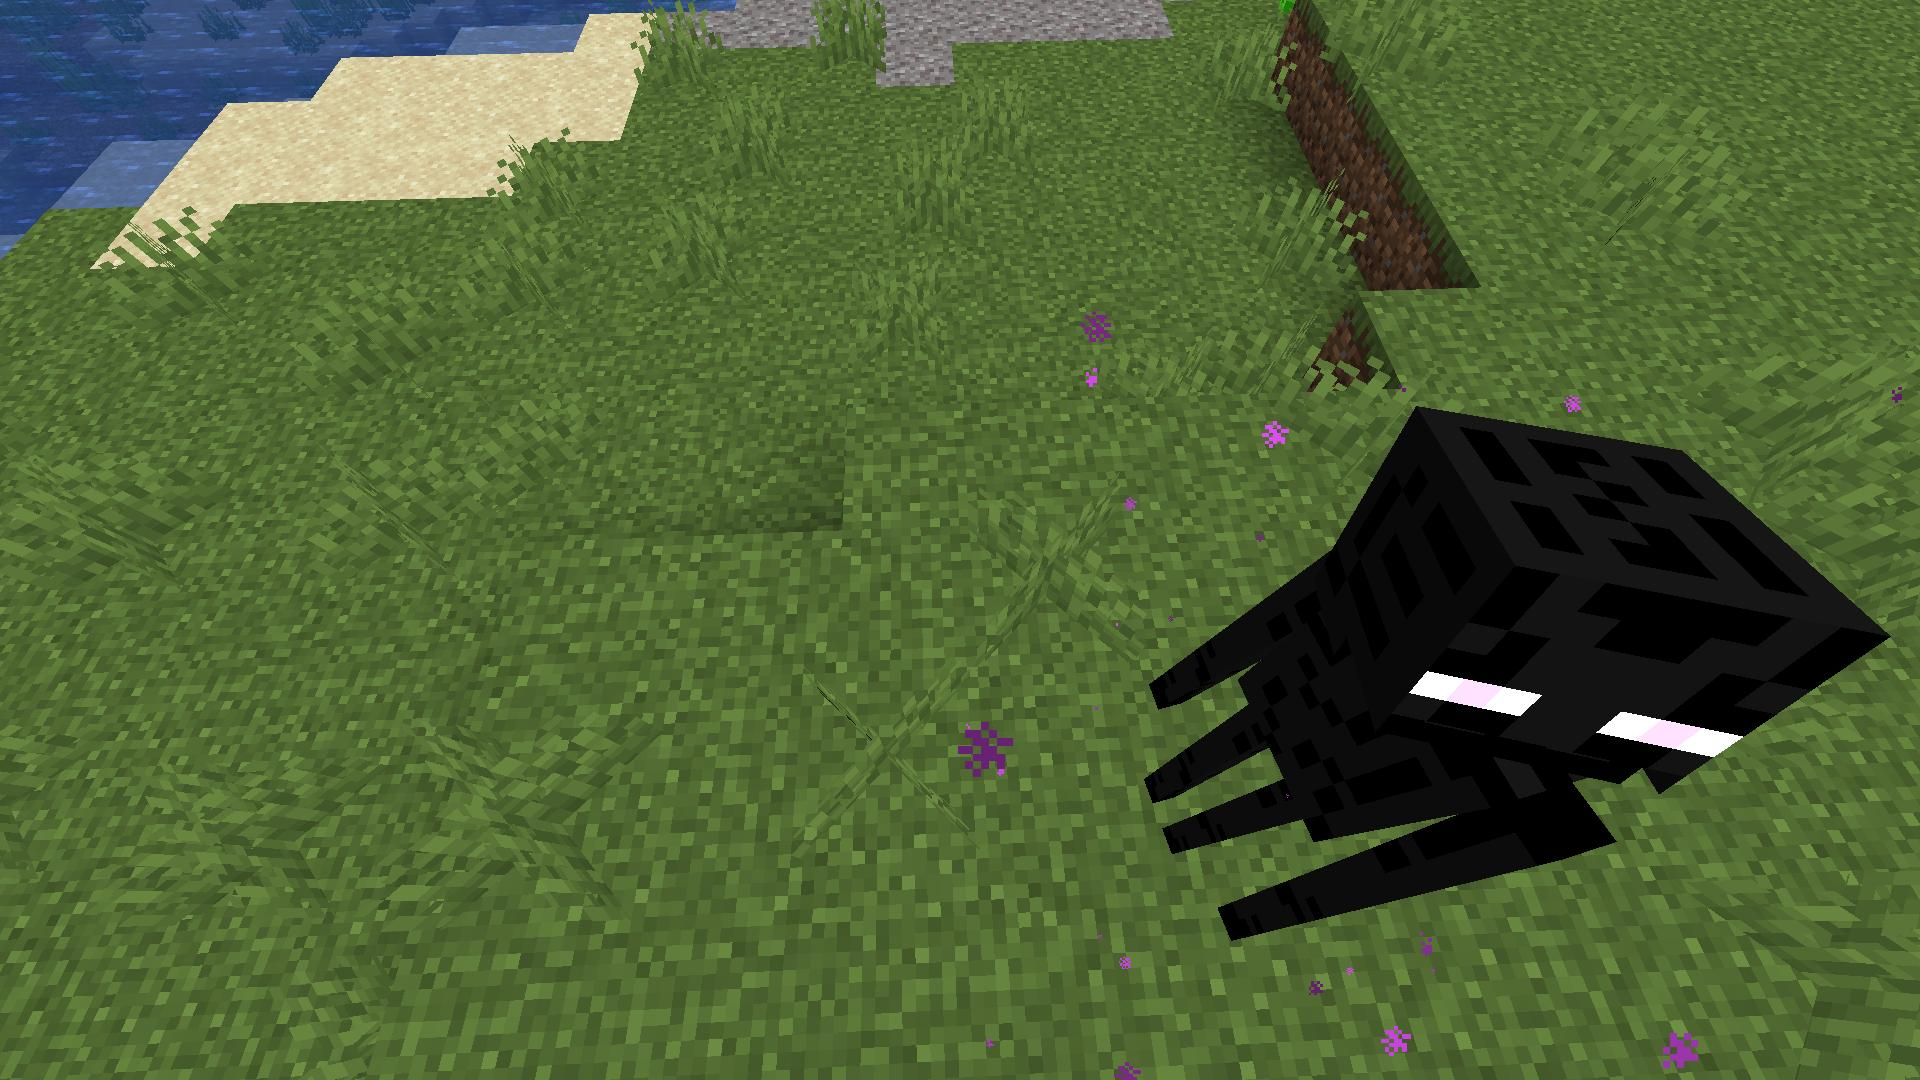enderman: (1133, 394, 1900, 997)
